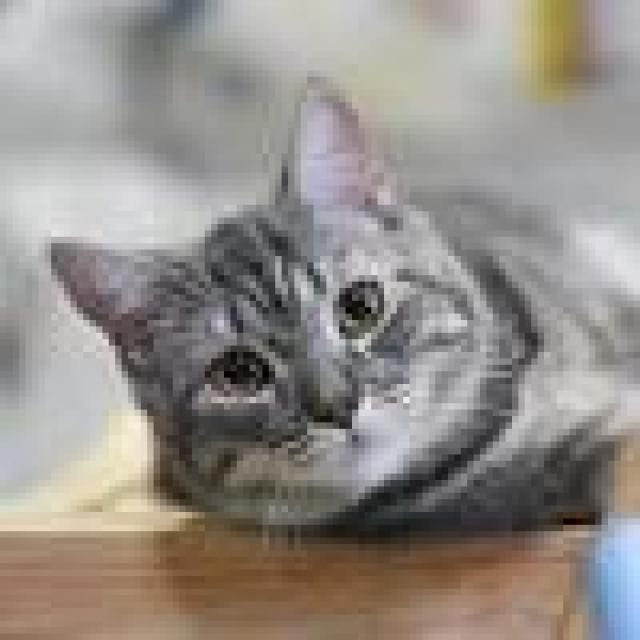cat-face: (80, 72, 580, 587)
